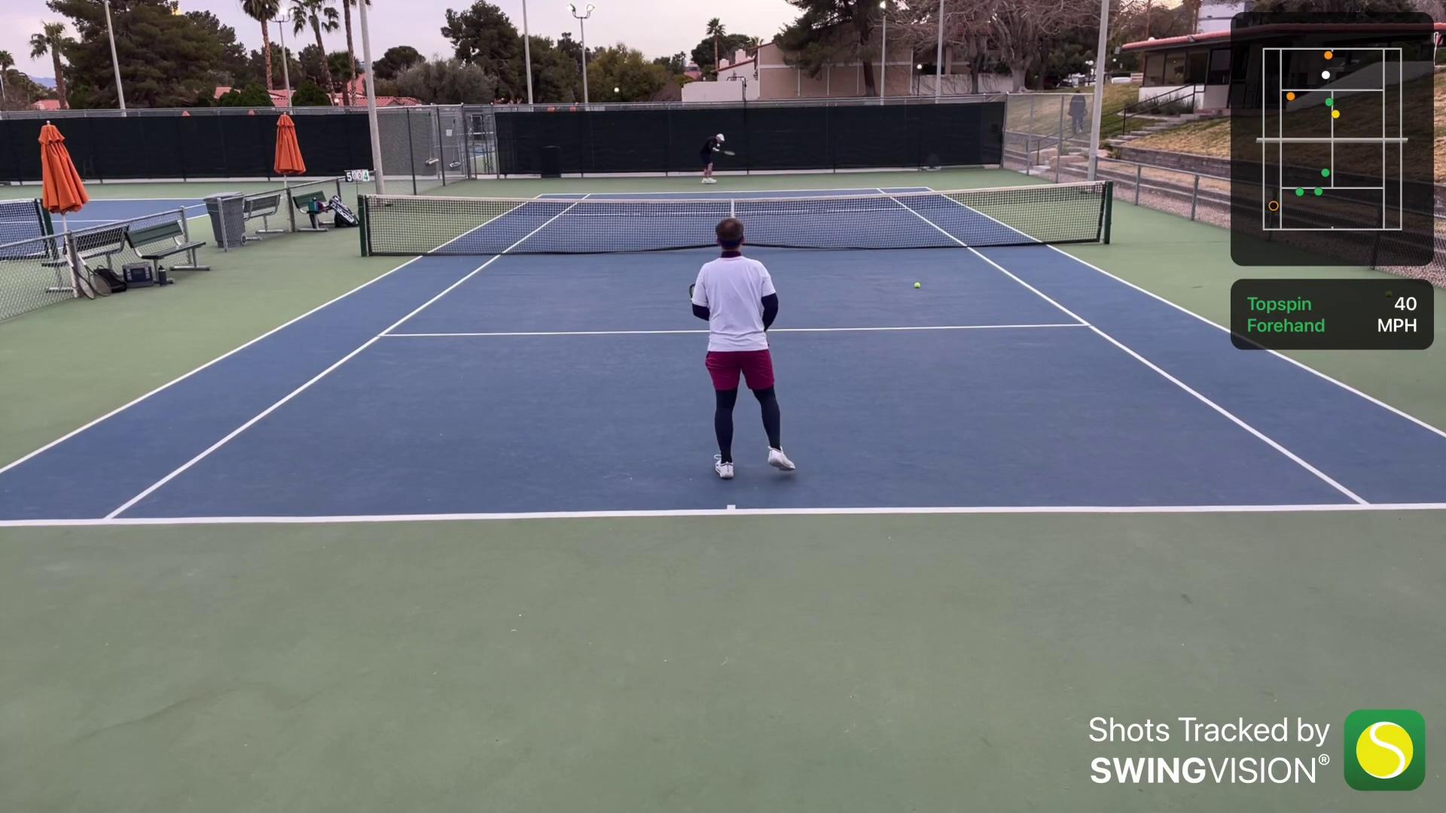ball: (911, 279, 921, 292), (715, 142, 723, 150)
